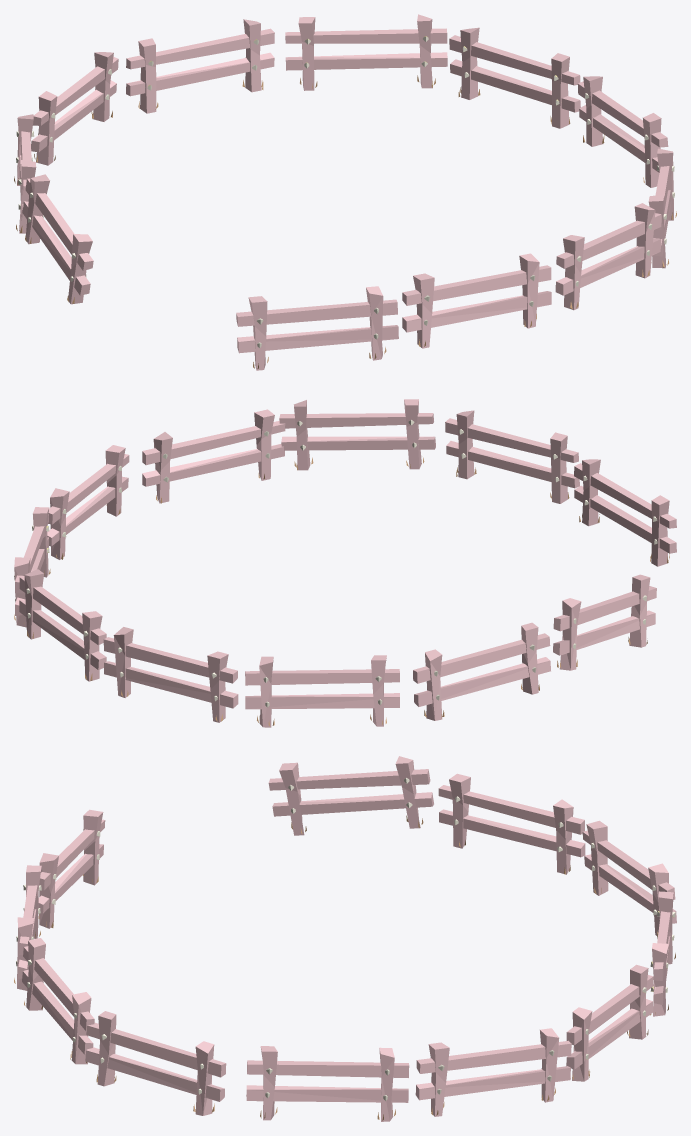
Rendered from fence-pink.gltf.
The picture shows the model from 3 angles, top to bottom: view 1: azimuth 30°, elevation 25°; view 2: azimuth 150°, elevation 25°; view 3: azimuth 270°, elevation 25°; orthographic projection. The views are drawn at different scales.
Parts seen in each view (by area): view 1: Cube.026, Cube.025, Cube.028, Cube.019, Cube.022, Cube.024, Cube.018, Cube.021, Cube.027, Cube.023, Cube.020; view 2: Cube.018, Cube.020, Cube.024, Cube.019, Cube.023, Cube.025, Cube.027, Cube.026, Cube.028, Cube.021, Cube.022; view 3: Cube.021, Cube.022, Cube.027, Cube.023, Cube.020, Cube.028, Cube.024, Cube.018, Cube.026, Cube.019, Cube.025.
Boxes of the visible parts, x1=… form: Cube.026: x1=236, y1=286, x2=398, y2=370; Cube.025: x1=402, y1=253, x2=551, y2=348; Cube.028: x1=285, y1=14, x2=447, y2=90; Cube.019: x1=126, y1=19, x2=274, y2=113; Cube.022: x1=449, y1=27, x2=580, y2=128; Cube.024: x1=555, y1=203, x2=661, y2=310; Cube.018: x1=31, y1=52, x2=118, y2=165; Cube.021: x1=577, y1=76, x2=668, y2=187; Cube.027: x1=22, y1=174, x2=93, y2=304; Cube.023: x1=648, y1=148, x2=676, y2=268; Cube.020: x1=14, y1=114, x2=36, y2=233; Cube.018: x1=245, y1=655, x2=399, y2=727; Cube.020: x1=413, y1=622, x2=550, y2=720; Cube.024: x1=279, y1=399, x2=435, y2=470; Cube.019: x1=103, y1=627, x2=238, y2=722; Cube.023: x1=142, y1=409, x2=285, y2=503; Cube.025: x1=445, y1=410, x2=579, y2=503; Cube.027: x1=553, y1=574, x2=656, y2=670; Cube.026: x1=574, y1=459, x2=676, y2=566; Cube.028: x1=19, y1=569, x2=106, y2=681; Cube.021: x1=47, y1=445, x2=129, y2=559; Cube.022: x1=14, y1=507, x2=50, y2=627; Cube.021: x1=246, y1=1046, x2=409, y2=1121; Cube.022: x1=415, y1=1028, x2=571, y2=1116; Cube.027: x1=268, y1=756, x2=433, y2=835; Cube.023: x1=85, y1=1011, x2=226, y2=1115; Cube.020: x1=438, y1=773, x2=585, y2=874; Cube.028: x1=566, y1=964, x2=653, y2=1081; Cube.024: x1=22, y1=938, x2=94, y2=1064; Cube.018: x1=582, y1=820, x2=676, y2=936; Cube.026: x1=38, y1=809, x2=105, y2=928; Cube.019: x1=649, y1=891, x2=675, y2=1016; Cube.025: x1=14, y1=865, x2=41, y2=990.
Bounding box in the file's own units: 11.71 × 1.86 × 11.55.
